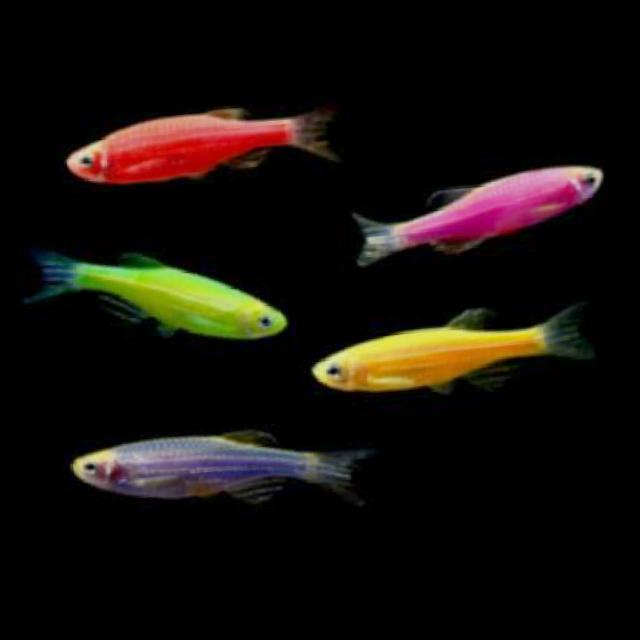ZebraFish: (53, 406, 370, 540), (15, 221, 284, 360), (303, 288, 601, 412), (52, 84, 353, 200), (342, 161, 606, 277)
